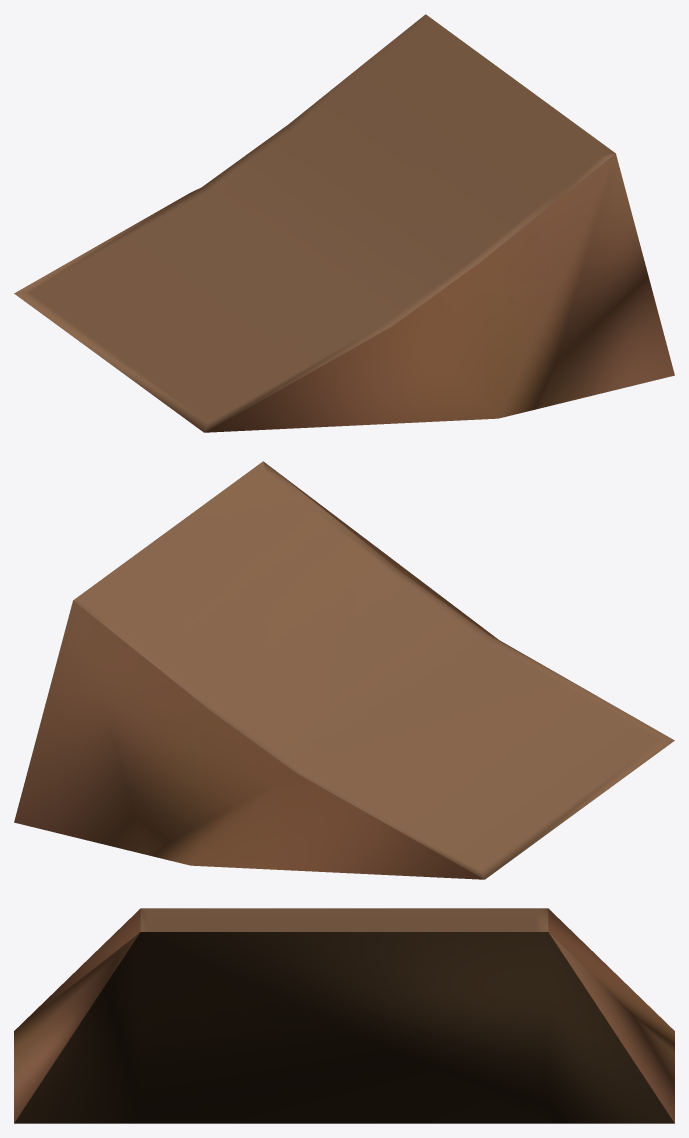
The model's file is DirtBikeTrackJump.glb.
The picture shows the model from 3 angles, top to bottom: view 1: azimuth 30°, elevation 25°; view 2: azimuth 150°, elevation 25°; view 3: azimuth 270°, elevation 25°; orthographic projection. The views are drawn at different scales.
Parts seen in each view (by area): view 1: DirtBikeTrackJump; view 2: DirtBikeTrackJump; view 3: DirtBikeTrackJump.
Boxes of the visible parts, box(x1,y1,x2,y2) form: DirtBikeTrackJump: box(14, 14, 674, 432); DirtBikeTrackJump: box(14, 461, 674, 879); DirtBikeTrackJump: box(14, 908, 674, 1123).
Bounding box in the file's own units: 5 × 2.08 × 6.49.
1 material, 1 textured.
